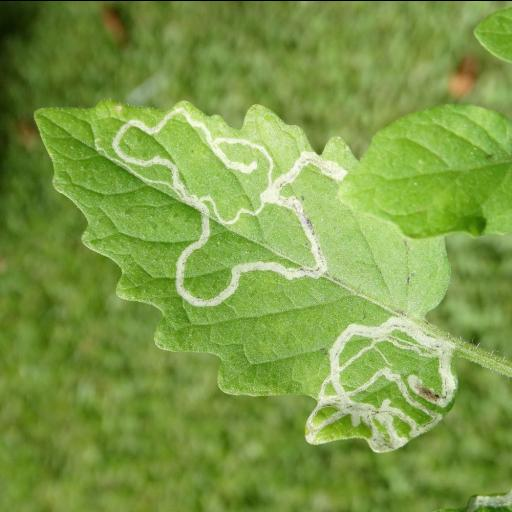disease_tomato: (30, 100, 458, 456)
